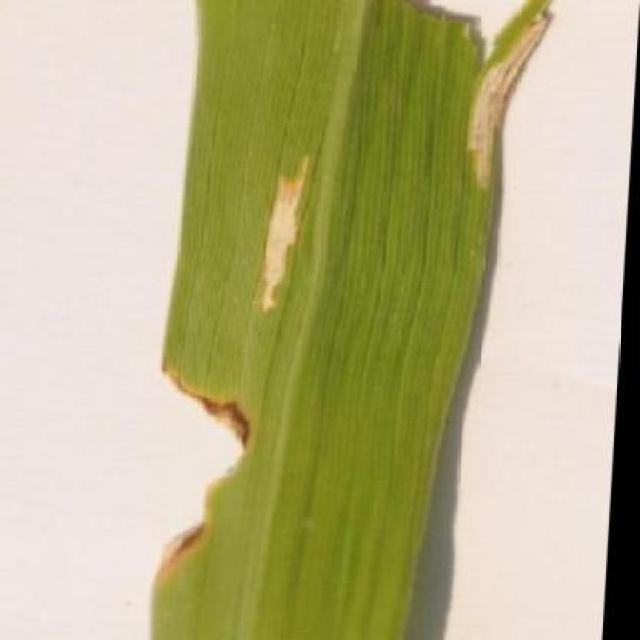Brown_Spot: (144, 0, 550, 640)
